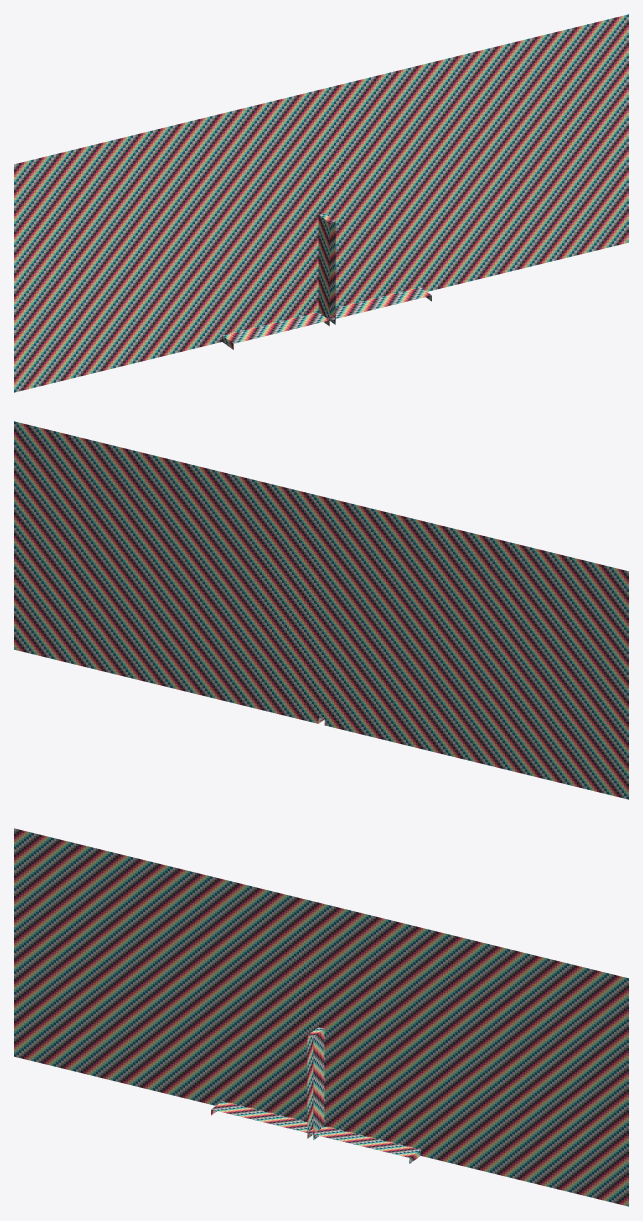
The model's file is wallOutsideManualMorph.glb.
3 renders of one model, top to bottom at view 1: azimuth 30°, elevation 25°; view 2: azimuth 150°, elevation 25°; view 3: azimuth 330°, elevation 25°, orthographic.
Parts seen in each view (by area): view 1: wallOutside, wallOutsideHoleMaxHeight, wallOutsideHoleMaxWidth; view 2: wallOutside, wallOutsideHoleMaxWidth, wallOutsideHoleMaxHeight; view 3: wallOutside, wallOutsideHoleMaxHeight, wallOutsideHoleMaxWidth.
Boxes of the visible parts, x1,y1,x2,y2 form: wallOutside: (14, 14, 628, 392); wallOutsideHoleMaxHeight: (14, 14, 628, 391); wallOutsideHoleMaxWidth: (14, 17, 628, 392); wallOutside: (14, 421, 628, 799); wallOutsideHoleMaxWidth: (14, 422, 628, 798); wallOutsideHoleMaxHeight: (14, 421, 628, 799); wallOutside: (14, 828, 628, 1206); wallOutsideHoleMaxHeight: (14, 828, 628, 1205); wallOutsideHoleMaxWidth: (14, 829, 628, 1205).
Size of the model in its own units: 31 by 11 by 0.985.
1 material, 1 textured.
